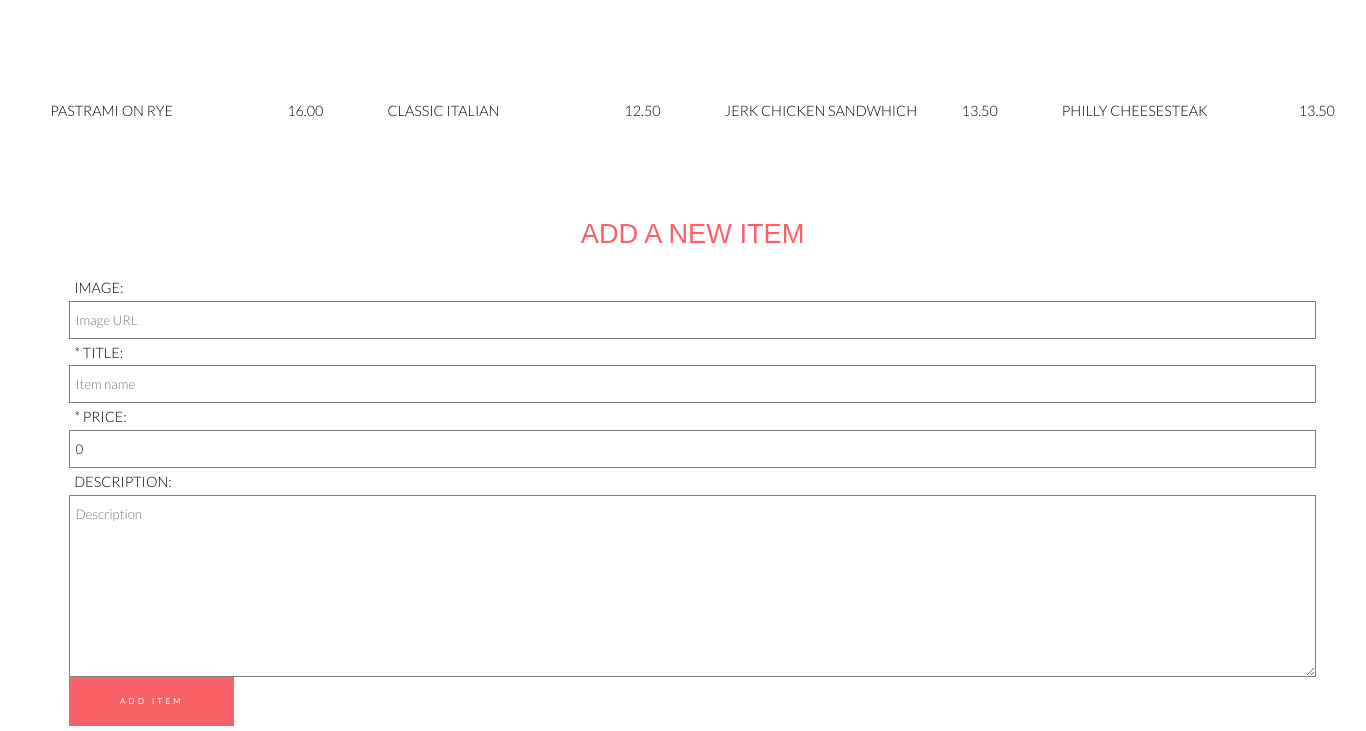
Test case: Add item form adds item to the DOM if only title and price fields are filled out
(page scrolled)
Type "New item without photo or description" into the field labelled "* Title:".
click(693, 384); type("New item without photo or description")  # box [69,365,1316,403]
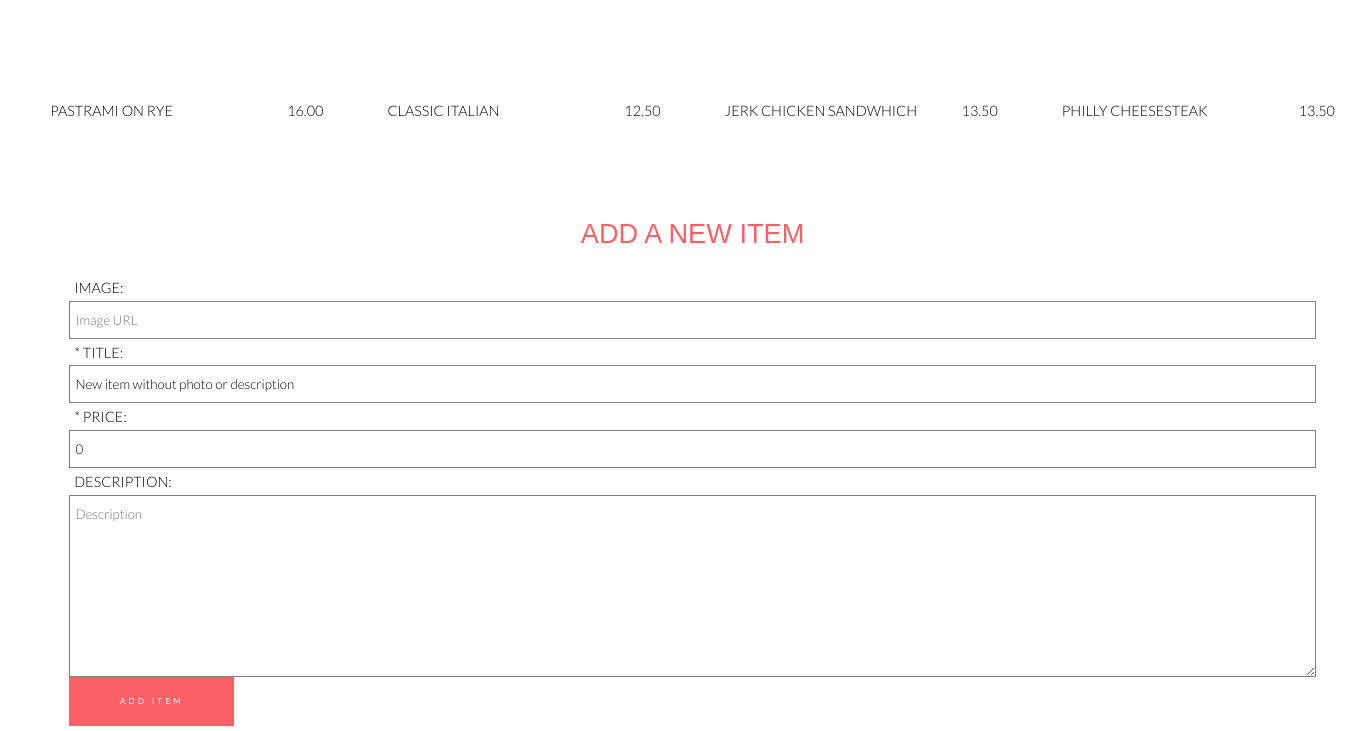
Type "11" into the field labelled "* Price:".
click(693, 449); type("11")  # box [69,430,1316,468]
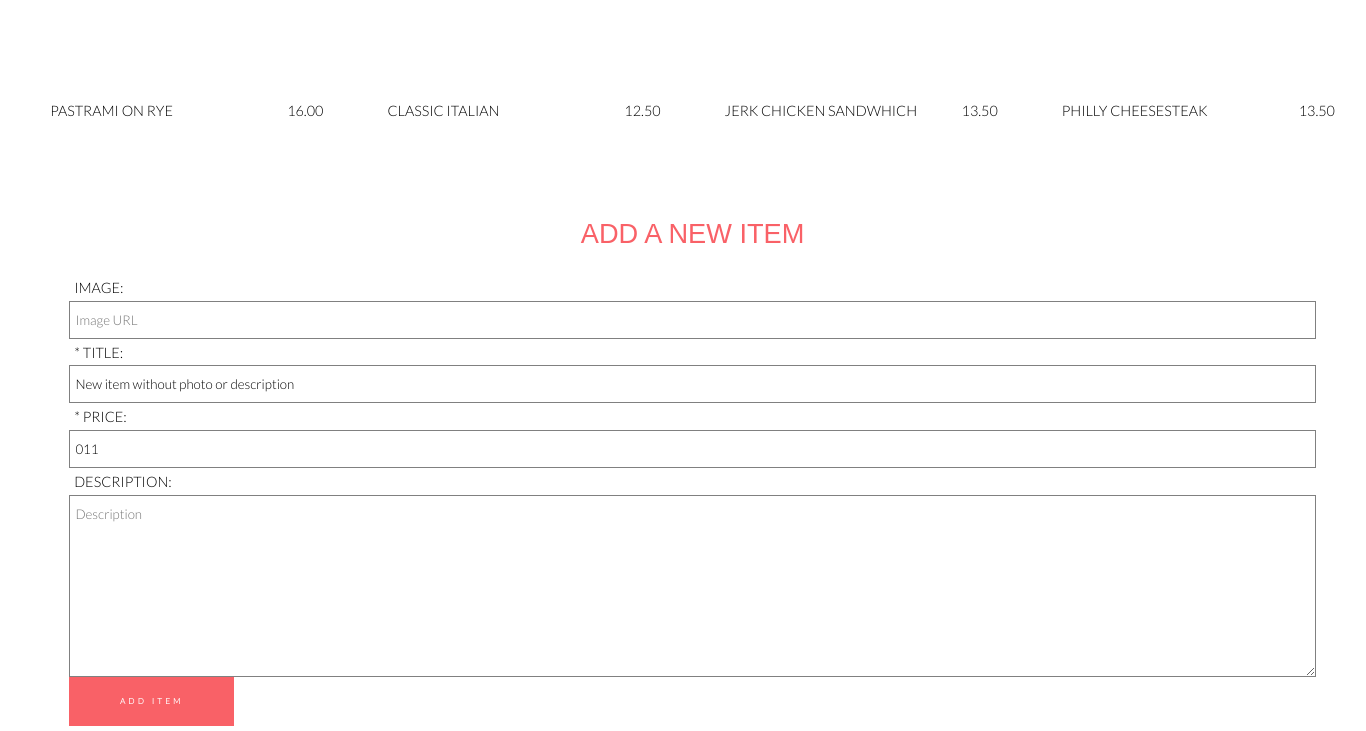
Click the button "Add item".
click(152, 701)  # box [69,677,234,726]
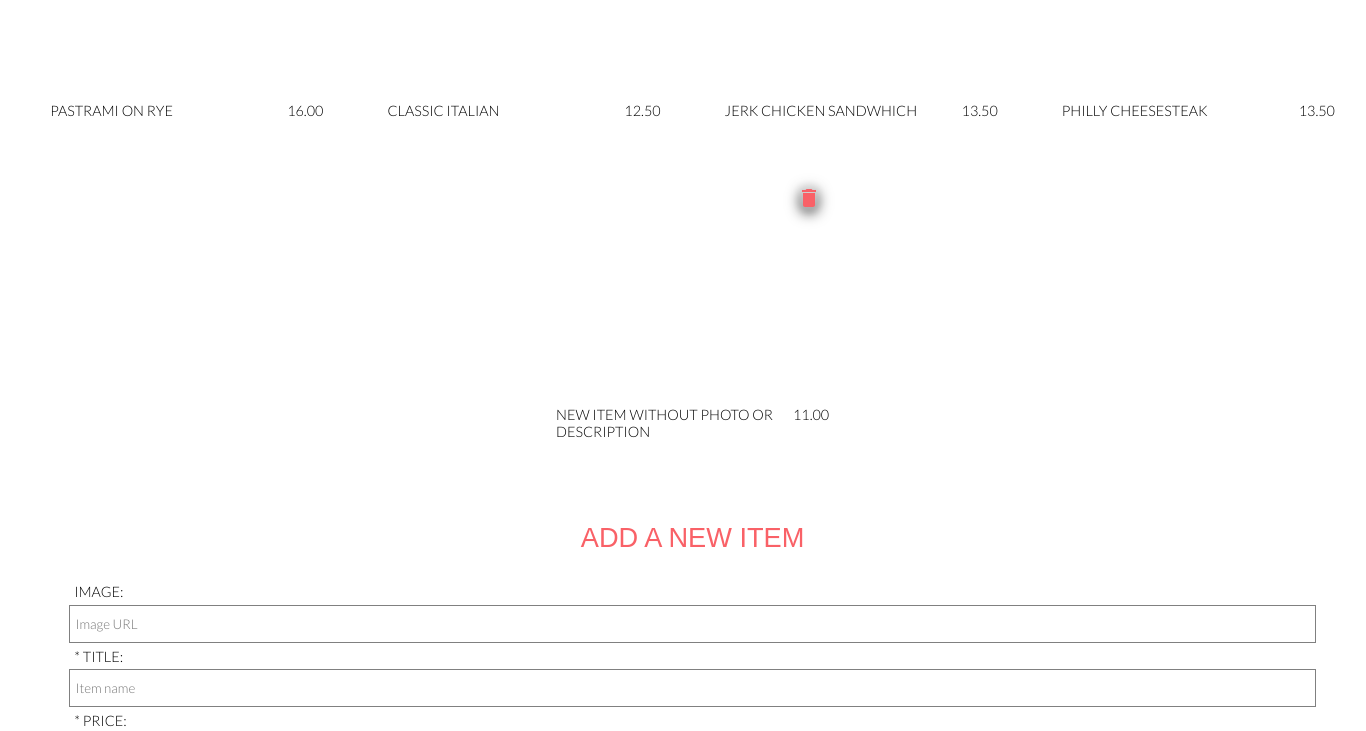
expect the text "New item without photo or description" is shown: met, box [556,406,793,418]
